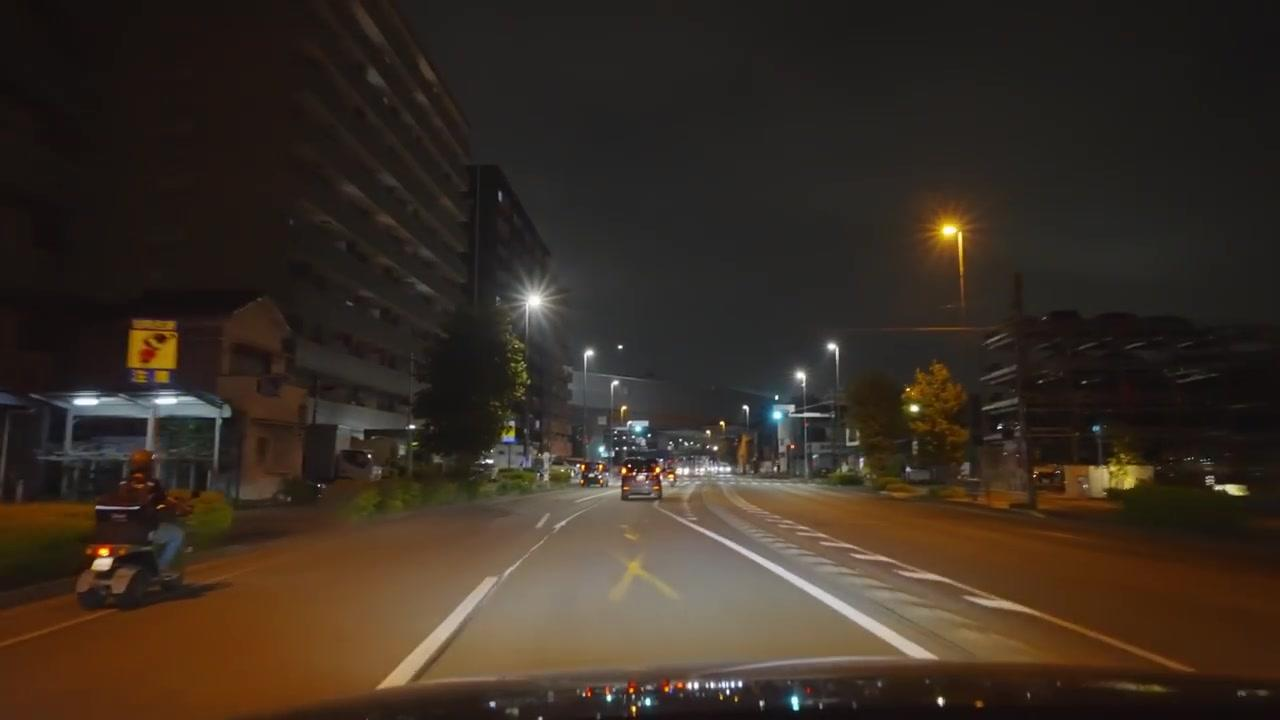car: (622, 476, 661, 502)
motorcycle: (74, 502, 188, 611)
person: (105, 449, 189, 583)
traffic light: (771, 403, 784, 425), (618, 403, 629, 420)
